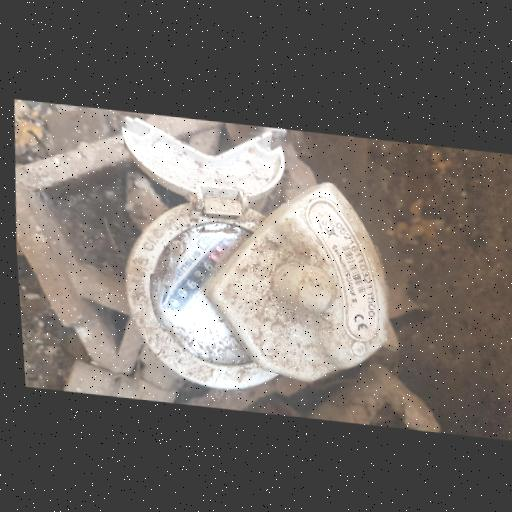0: (173, 283, 196, 306), (165, 293, 188, 314)
3: (188, 265, 212, 287)
5: (211, 241, 233, 261)
6: (181, 273, 204, 295), (197, 256, 219, 277), (205, 248, 227, 269)
border_water_meter_number: (157, 223, 247, 324)
